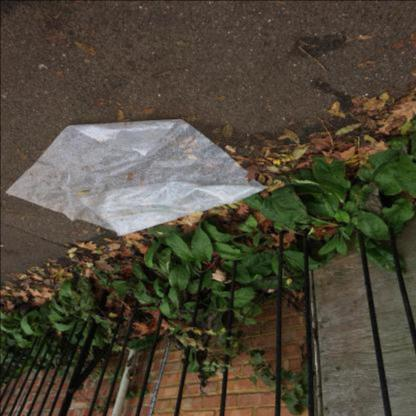Plastic bag - wrapper: (5, 119, 267, 236)
